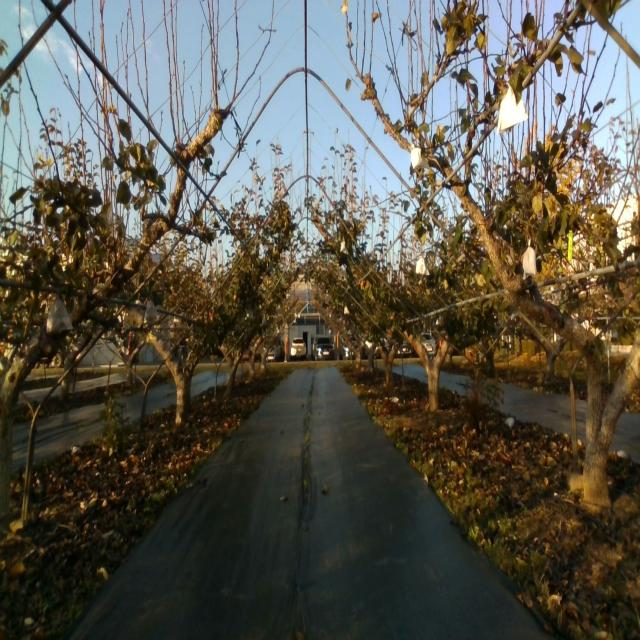pearbags: (497, 85, 529, 135), (46, 298, 73, 334), (410, 143, 431, 171), (522, 238, 536, 280), (144, 300, 158, 322), (415, 255, 429, 276)
